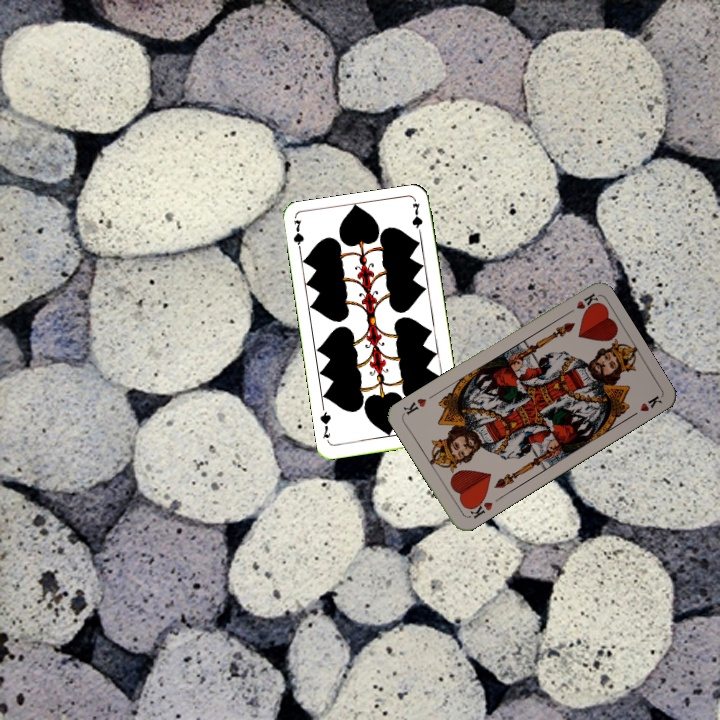G7: (289, 216, 307, 257)
HK: (561, 289, 600, 318), (464, 494, 495, 521)
